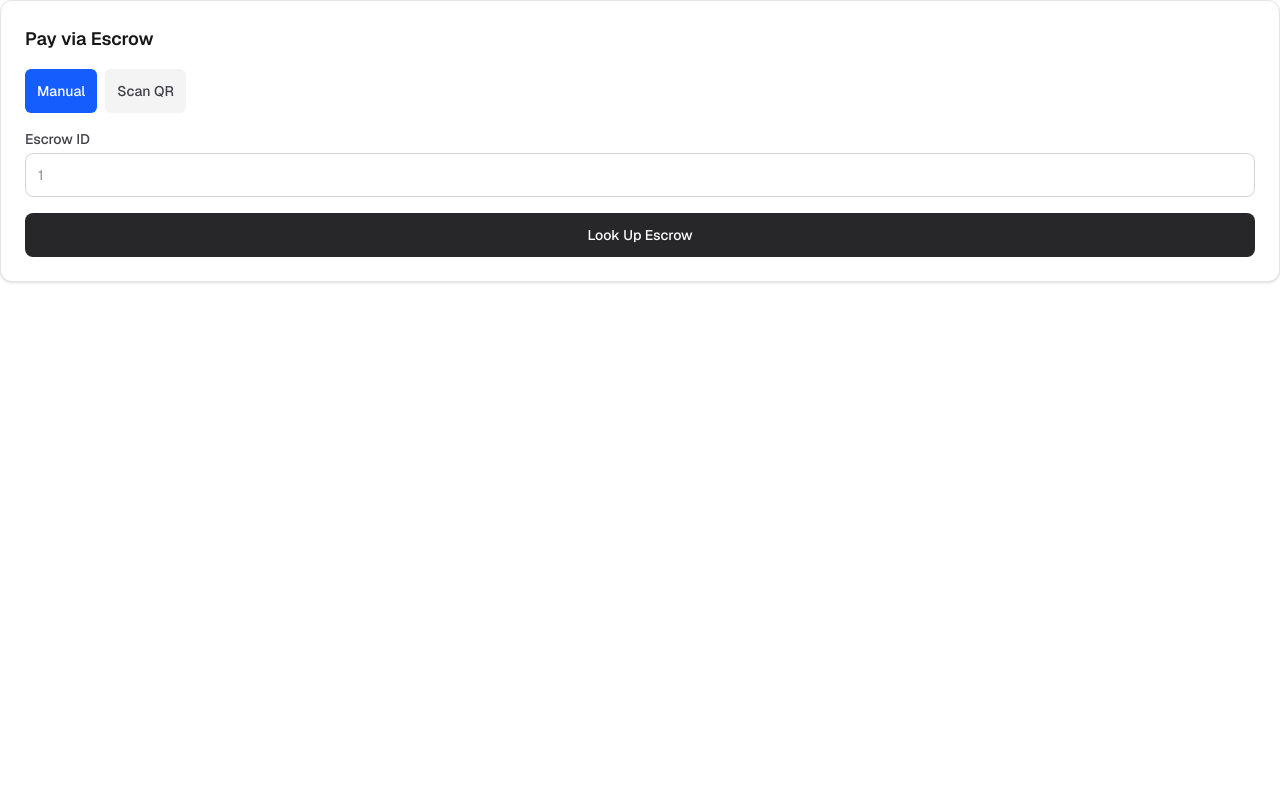
it: BuyerPanel › renders escrow details and action buttons after lookup
Type "5" into the number field labelled "Escrow ID" at (640, 175), box [25,153,1255,197]
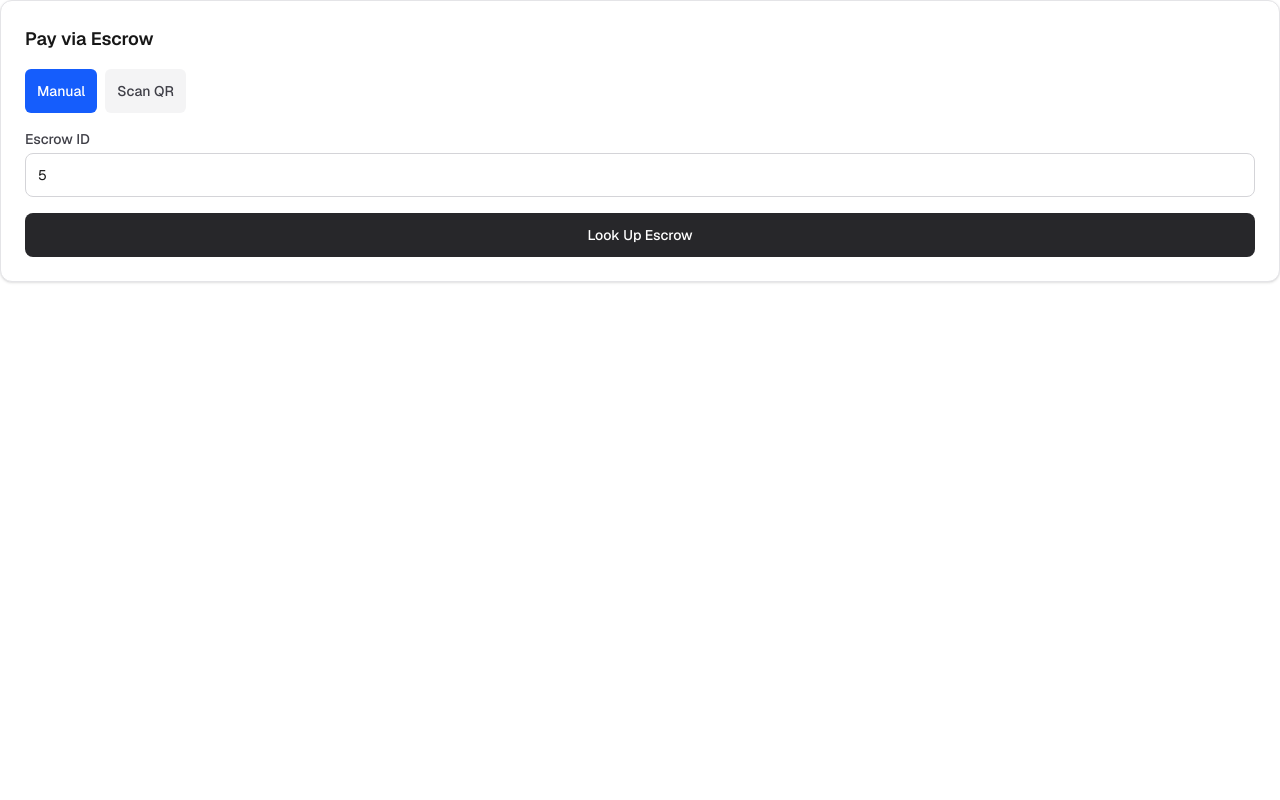
Click the button "Look Up Escrow" at (640, 235), box [25,213,1255,257]
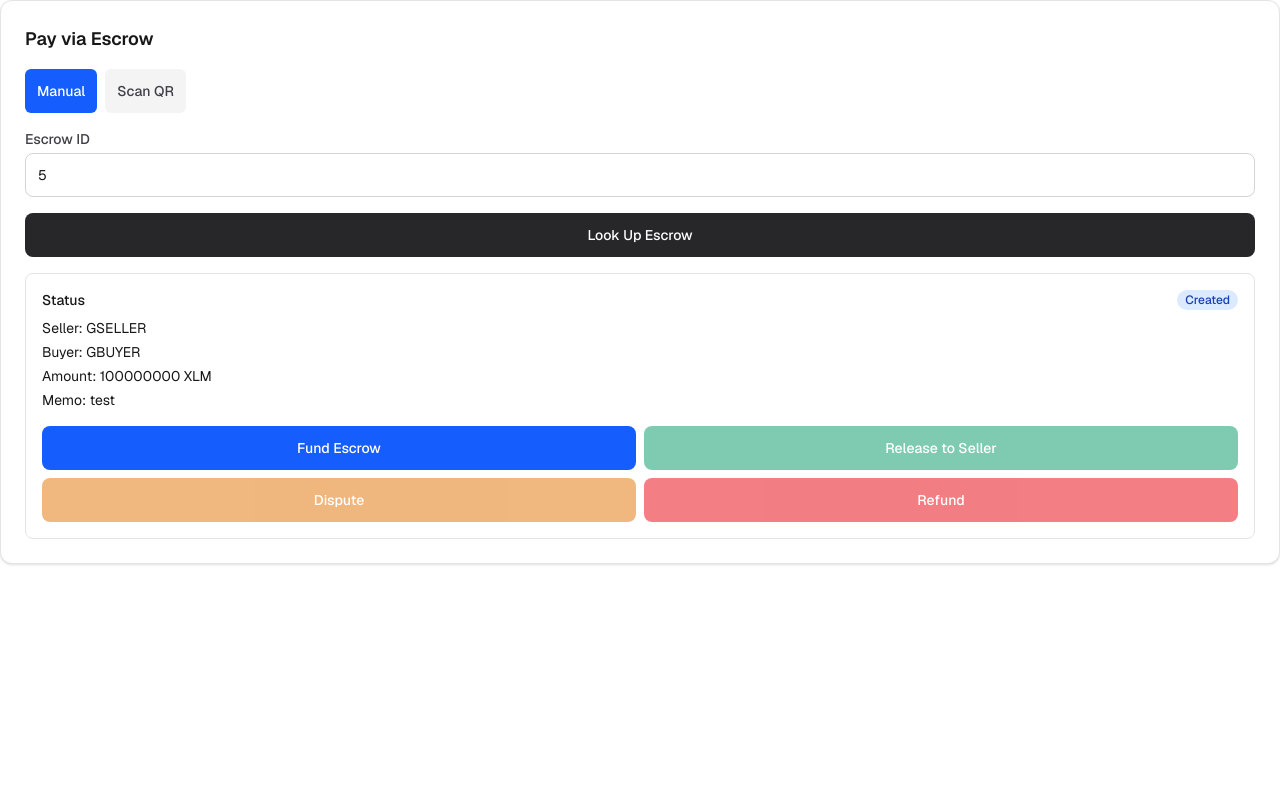
Result: the button "Fund Escrow" is shown at [42,426,636,470]
Result: the text "Created" is shown at [1177,290,1238,310]
